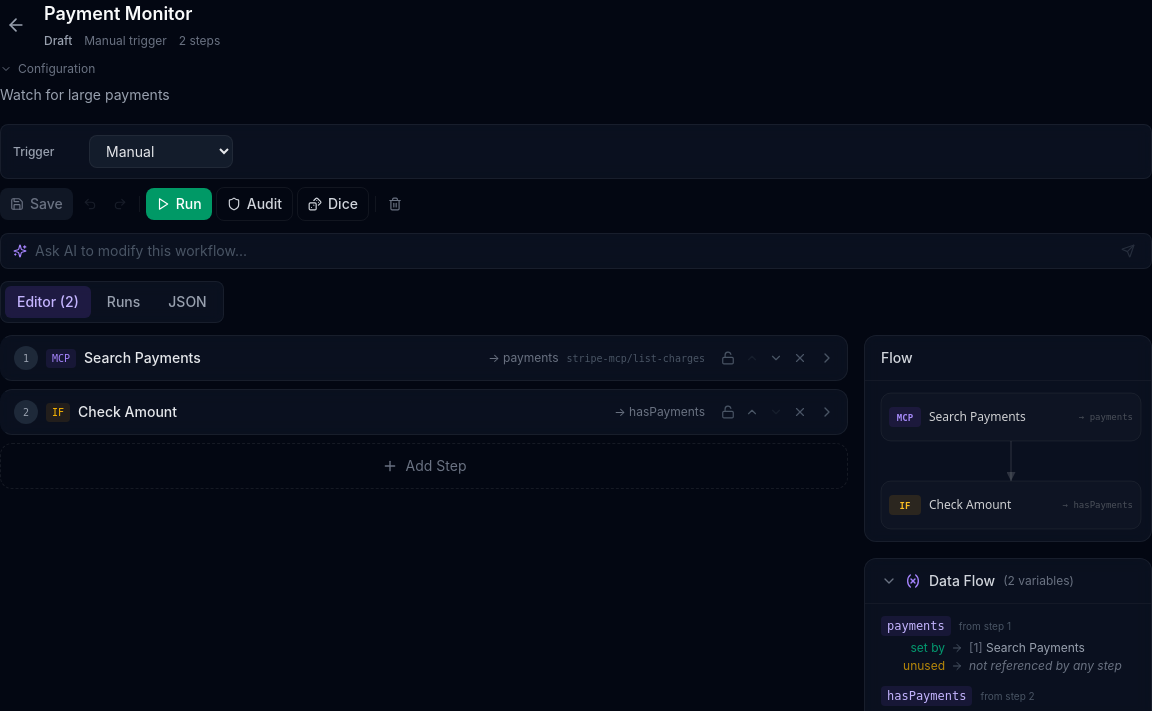
it: WorkflowEditor › switching to JSON tab shows JSON content
This screenshot has width=1152, height=711.
Click the button "JSON".
click(188, 302)  # box x1=156 y1=286 x2=219 y2=318
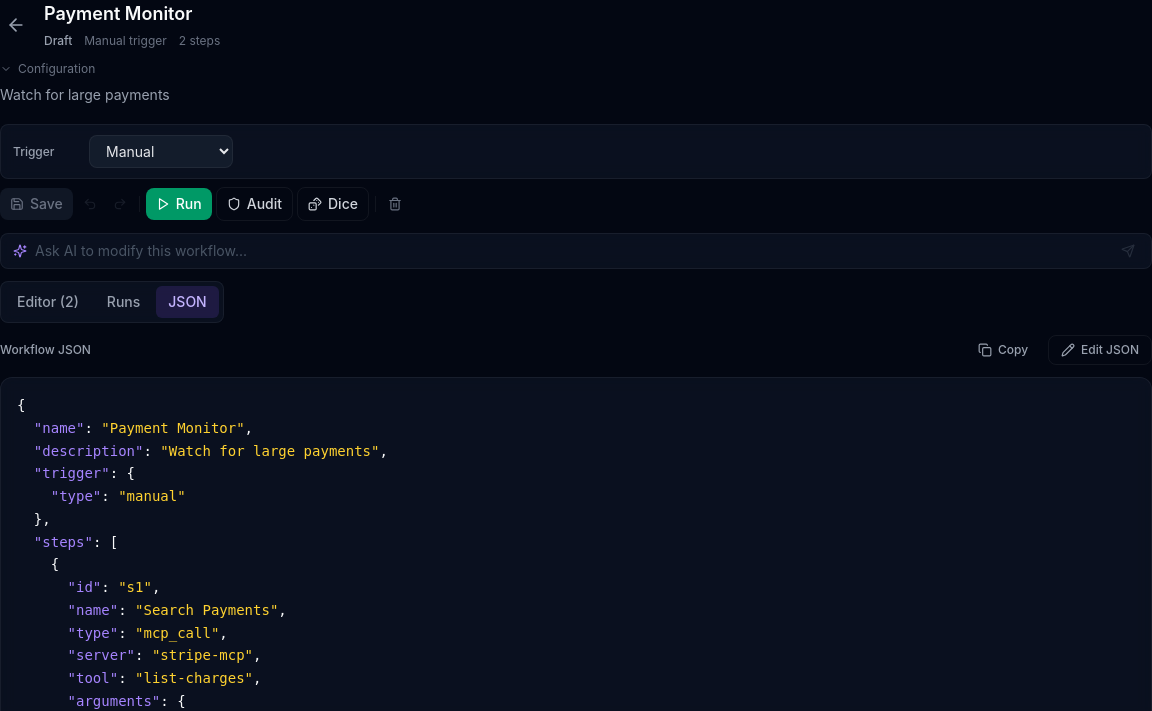
Check: the text "Workflow JSON" is shown, box x1=0 y1=342 x2=91 y2=358
